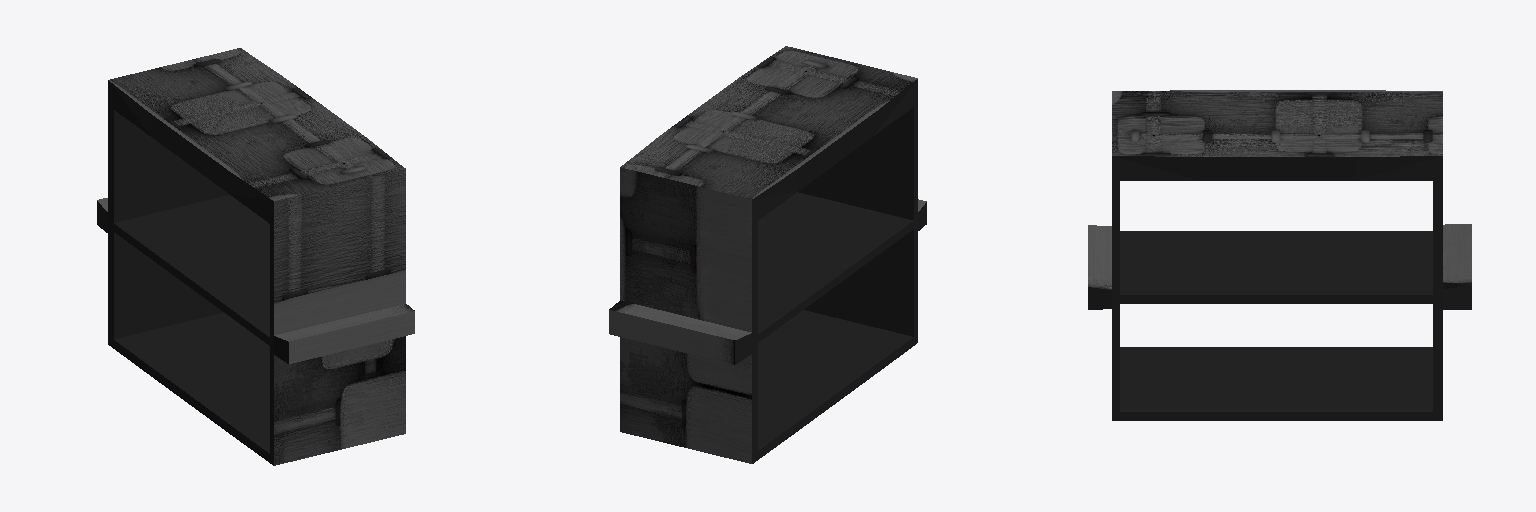
The picture shows the model from 3 angles: view 1: azimuth 30°, elevation 25°; view 2: azimuth 150°, elevation 25°; view 3: azimuth 270°, elevation 25°; orthographic projection.
Parts seen in each view (by area): view 1: Lenght_Corridor_Connector; view 2: Lenght_Corridor_Connector; view 3: Lenght_Corridor_Connector.
Part boxes in pixels (bbox=[...]): Lenght_Corridor_Connector: bbox=[97, 48, 414, 465]; Lenght_Corridor_Connector: bbox=[609, 46, 926, 463]; Lenght_Corridor_Connector: bbox=[1088, 90, 1471, 420].
Bounding box in the file's own units: 0.6178 × 1.14 × 1.49.
2 materials, 1 textured.